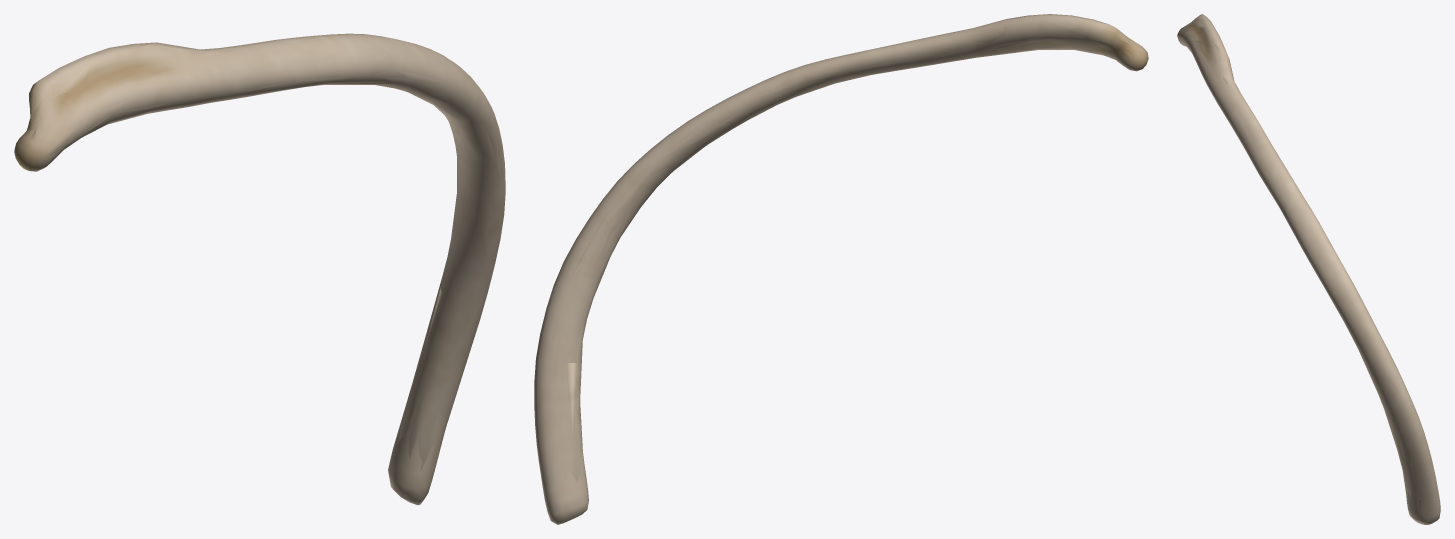
The model's file is Rib L17.fbx.
The picture shows the model from 3 angles, left to right: view 1: azimuth 30°, elevation 25°; view 2: azimuth 150°, elevation 25°; view 3: azimuth 270°, elevation 25°; orthographic projection. The views are drawn at different scales.
Visible parts, largest first — view 1: Rib L17, Rib L17 low; view 2: Rib L17, Rib L17 low; view 3: Rib L17, Rib L17 low.
Boxes of the visible parts, x1,y1,x2,y2 form: Rib L17: (14, 33, 505, 505); Rib L17 low: (16, 36, 505, 500); Rib L17: (534, 14, 1148, 524); Rib L17 low: (536, 15, 1145, 516); Rib L17: (1177, 14, 1440, 524); Rib L17 low: (1177, 18, 1438, 524).
Size of the model in its own units: 26.41 by 26.83 by 17.51.
1 material, 1 textured.
